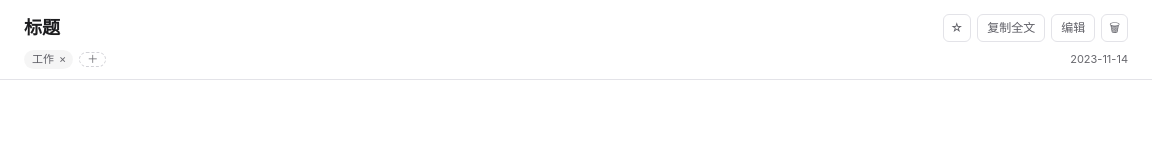
Scenario: NoteHeader › copies the raw markdown of the whole note
Step 1. Click the button "复制全文" → point(1011, 28), box [977,14,1045,42]
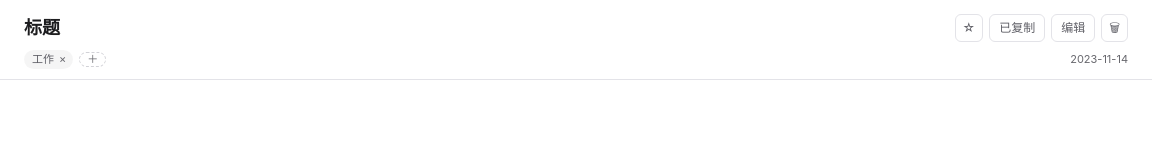
Expected: the button "已复制" is shown, [989,14,1045,42]
